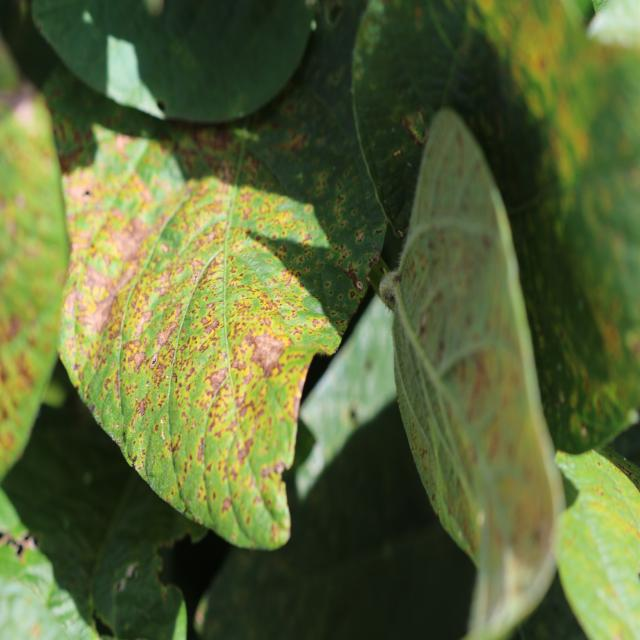Bacterial_Blight: (541, 271, 620, 408), (496, 6, 576, 111), (0, 327, 52, 462), (417, 144, 490, 240), (492, 460, 555, 557), (230, 351, 283, 443), (323, 178, 370, 247), (77, 275, 126, 339), (261, 117, 319, 168), (459, 355, 501, 423), (403, 243, 435, 316), (103, 218, 150, 267), (250, 202, 307, 242), (126, 421, 159, 487), (354, 8, 388, 65), (200, 300, 225, 345), (150, 352, 175, 392), (401, 108, 428, 143), (300, 295, 326, 320), (154, 323, 176, 351), (207, 365, 229, 392), (135, 398, 148, 418), (221, 496, 233, 513), (171, 438, 180, 454), (421, 449, 428, 462), (131, 456, 138, 468), (337, 195, 345, 204), (160, 429, 166, 441), (393, 149, 402, 157), (349, 289, 356, 298), (431, 493, 436, 502), (114, 423, 120, 430), (145, 381, 150, 387)
Soybean: (46, 3, 385, 548)
